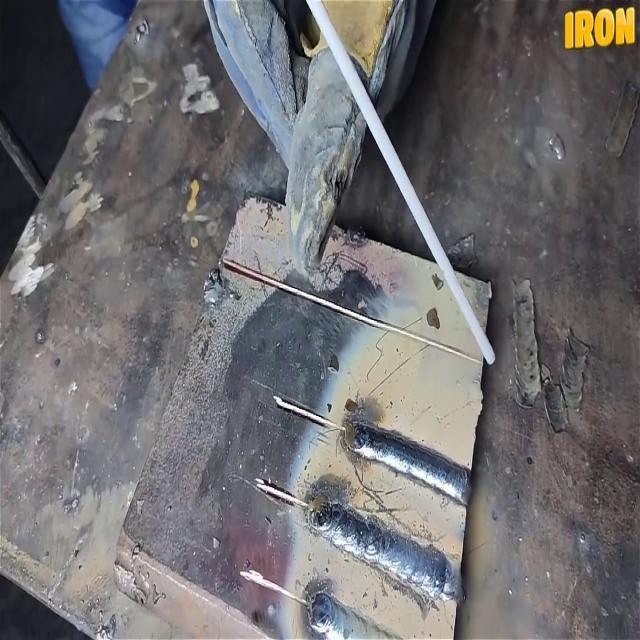Good Weld: (336, 510, 451, 595), (362, 423, 464, 493)
